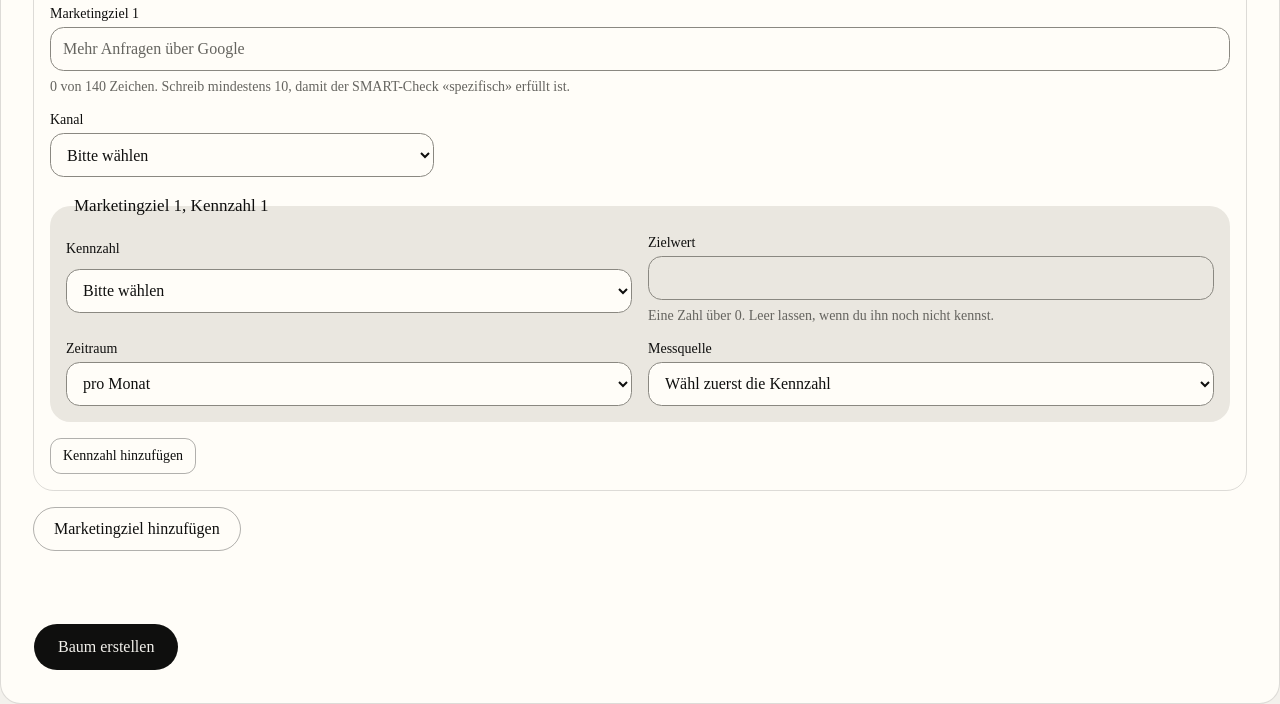
it: Ziel- und KPI-Baum: Formular › erlaubt höchstens drei Marketingziele und zwei Kennzahlen je Ziel
(page scrolled)
Click the button "Marketingziel hinzufügen" at (137, 529), box [33,507,241,551]
(page scrolled)
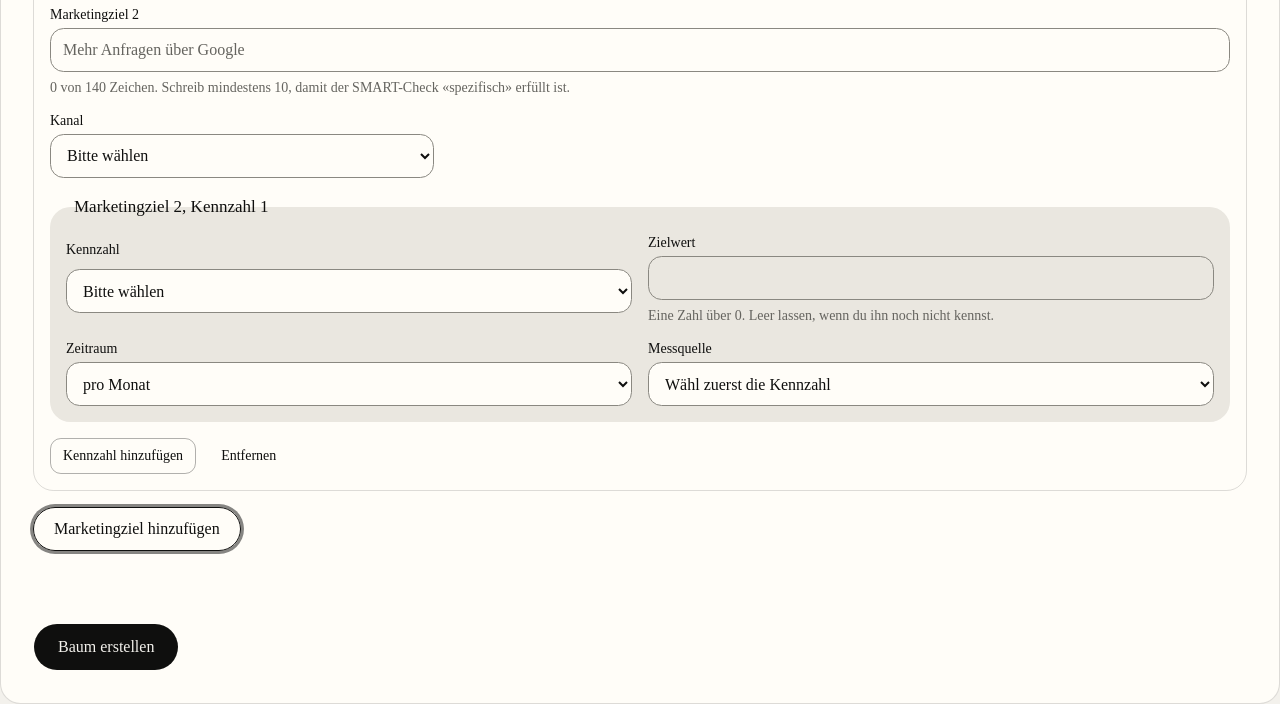
Click the button "Marketingziel hinzufügen" at (137, 529), box [33,507,241,551]
(page scrolled)
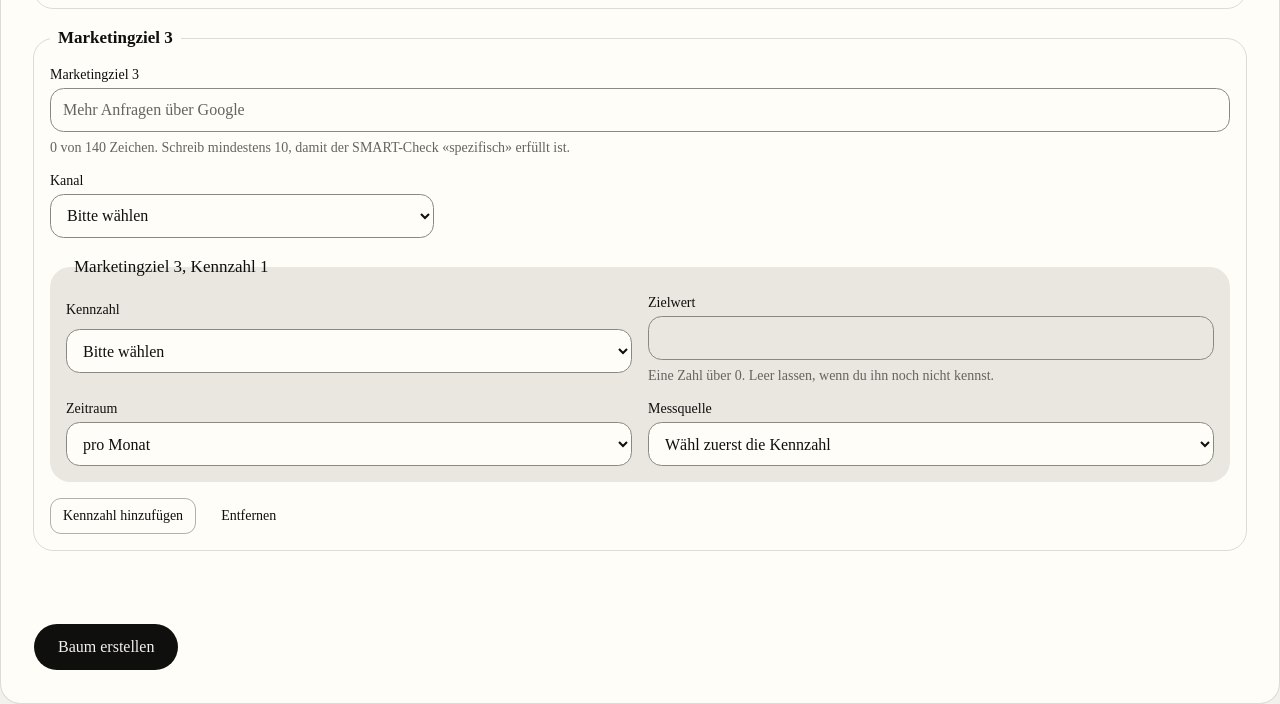
Check: the field with id "kb-z3-text" is shown, box [50,88,1230,132]
Check: the button "Marketingziel hinzufügen" is gone
Click the button with aria-label "Entfernen: Marketingziel 3" at (249, 516), box [208,498,289,534]
(page scrolled)
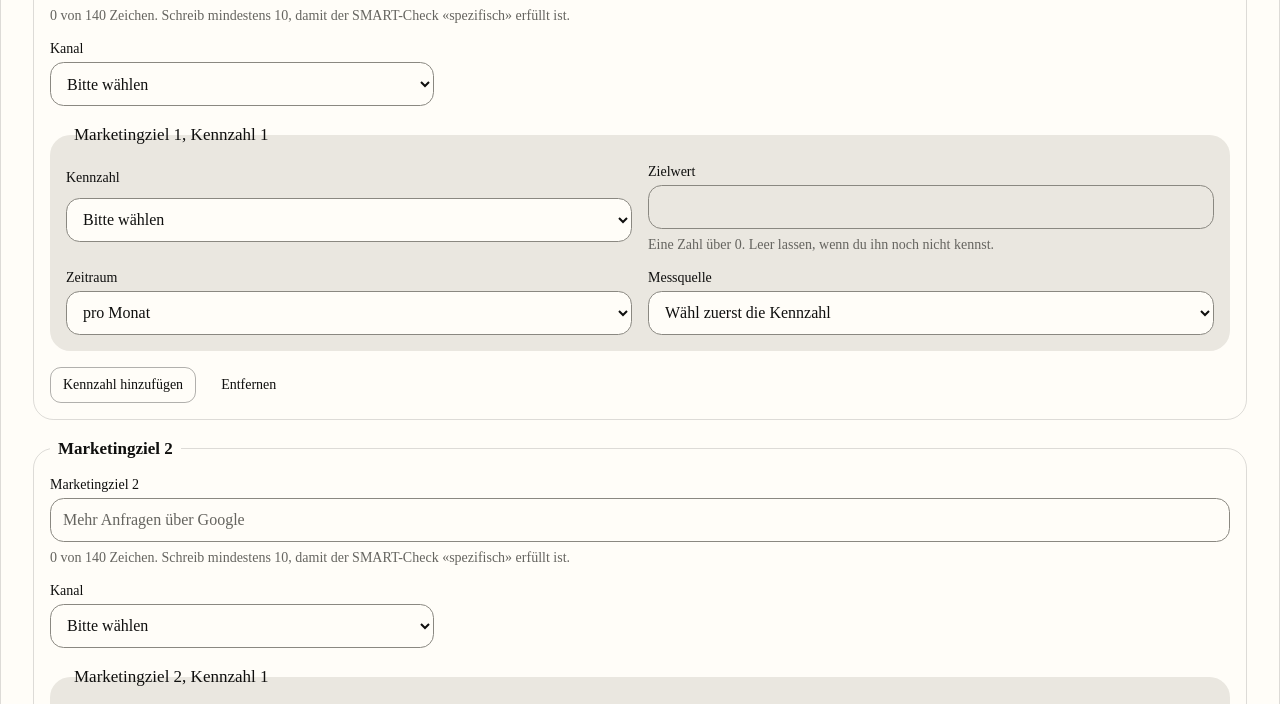
Check: the label with id "kb-z3-text" is gone
Click the button with aria-label "Kennzahl hinzufügen (Marketingziel 1)" at (123, 385), box [50,367,196,403]
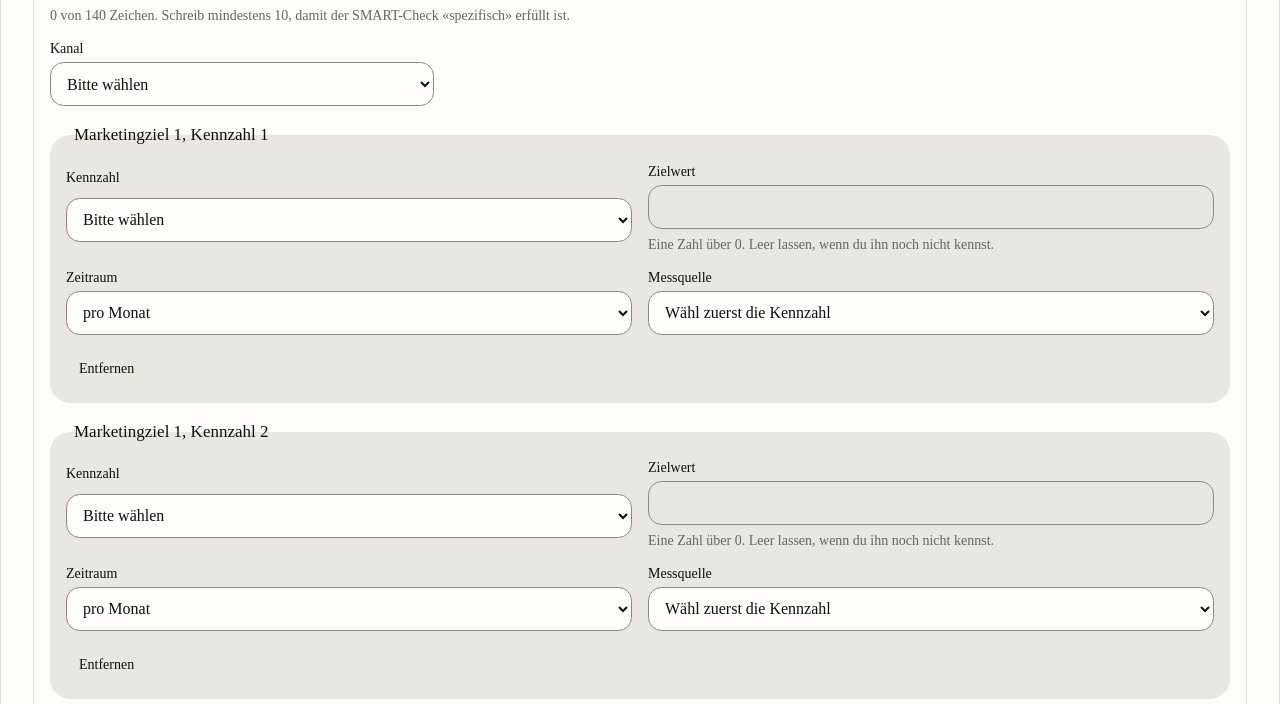
Check: the dropdown with id "kb-z1-k2-kpi" is shown, box [66,494,632,538]
Click the button with aria-label "Entfernen: Kennzahl 2 von Marketingziel 1" at (107, 665), box [66,647,147,683]
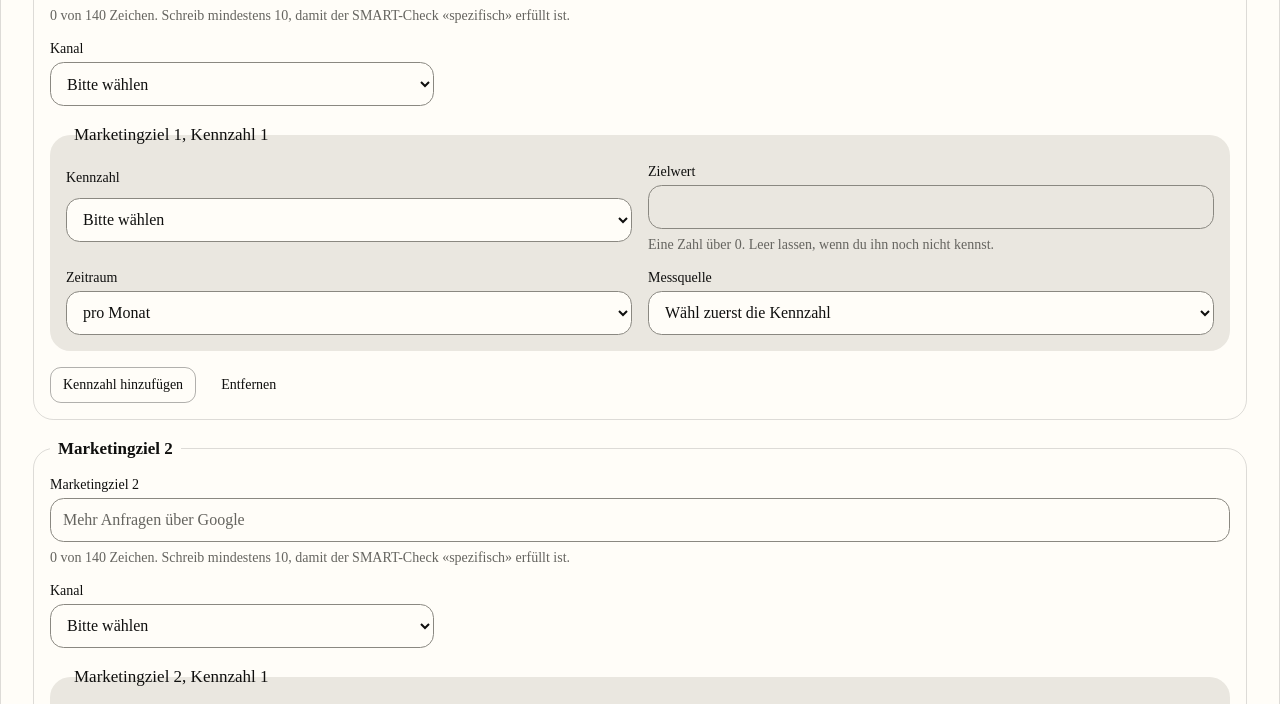
Check: the label with id "kb-z1-k2-kpi" is gone
